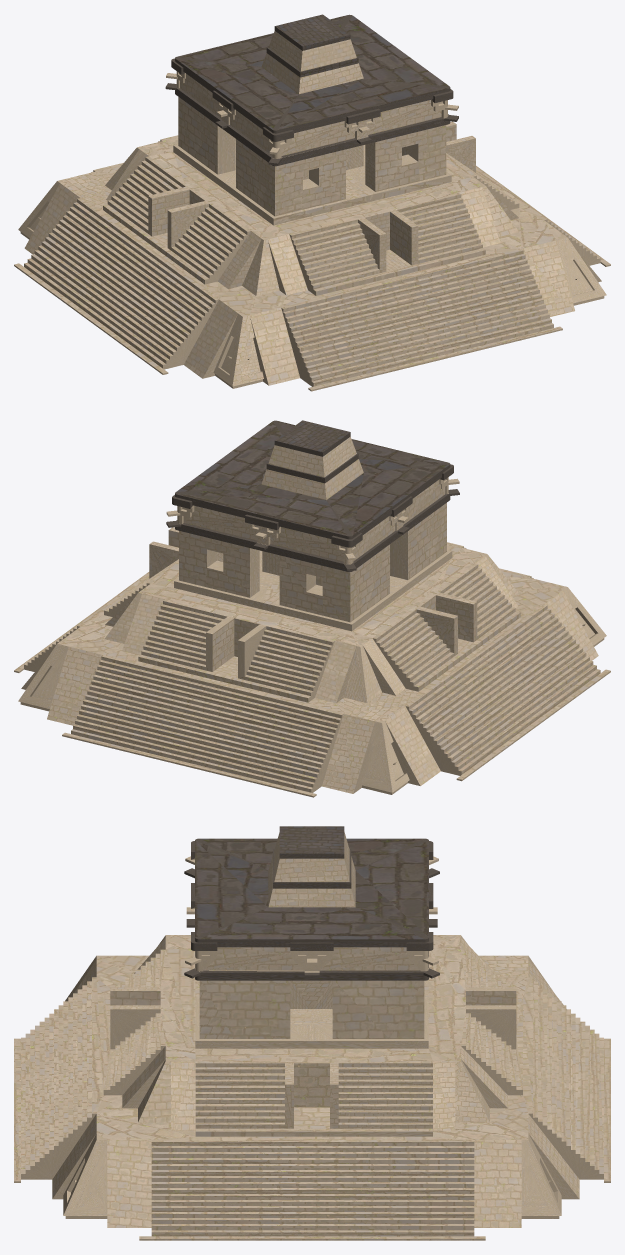
Rendered from dzibilchaltun.gltf.
3 views of the same model, one above another, from view 1: azimuth 30°, elevation 25°; view 2: azimuth 150°, elevation 25°; view 3: azimuth 270°, elevation 25° (orthographic). The views are drawn at different scales.
Visible parts, largest first — view 1: Pieza1; view 2: Pieza1; view 3: Pieza1.
Part boxes in pixels (left/top/right/bottom): Pieza1: left=14, top=14, right=610, bottom=391; Pieza1: left=14, top=420, right=610, bottom=797; Pieza1: left=14, top=826, right=610, bottom=1240.
Size of the model in its own units: 6.74 by 3.39 by 6.69.
Materials: 2 (2 with a texture image).
